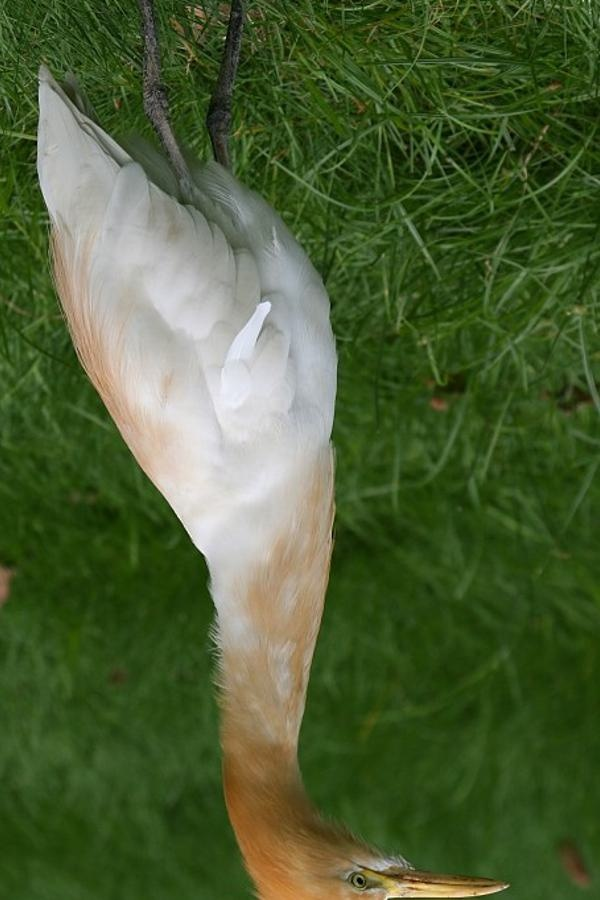egret: (25, 61, 600, 900)
